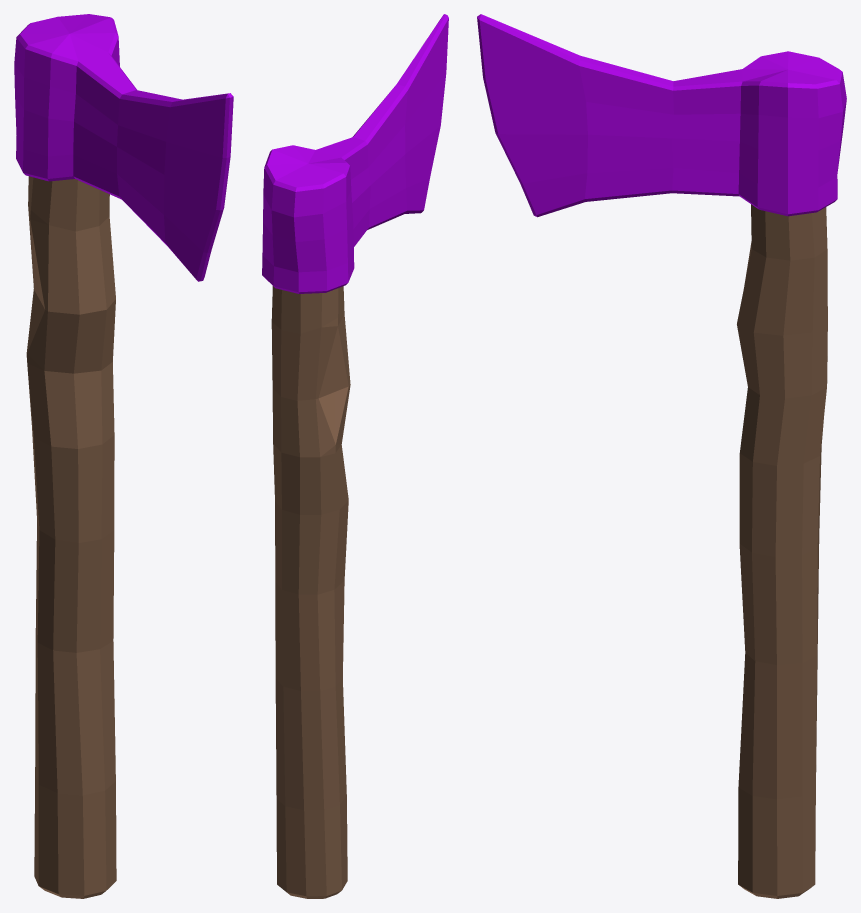
Rendered from Axe_01_Purple.fbx.
3 views of the same model, side by side, from view 1: azimuth 30°, elevation 25°; view 2: azimuth 150°, elevation 25°; view 3: azimuth 270°, elevation 25° (orthographic). The views are drawn at different scales.
Visible parts, largest first — view 1: Axe_01_Purple; view 2: Axe_01_Purple; view 3: Axe_01_Purple.
Boxes of the visible parts, x1=… form: Axe_01_Purple: x1=14, y1=14, x2=233, y2=898; Axe_01_Purple: x1=262, y1=14, x2=448, y2=898; Axe_01_Purple: x1=477, y1=14, x2=846, y2=898.
Bounding box in the file's own units: 13.94 × 129 × 49.54.
